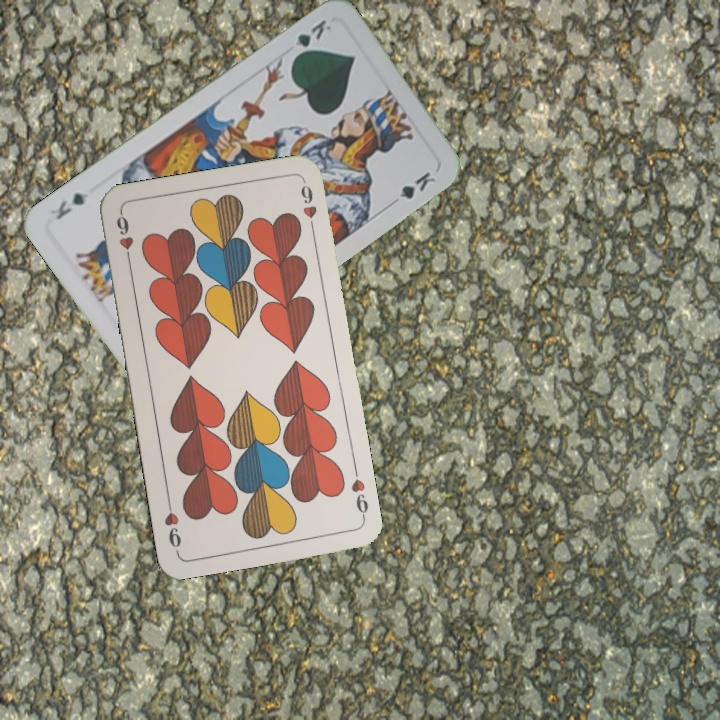GK: (288, 15, 334, 62)
H9: (112, 209, 136, 268), (347, 464, 371, 523)
